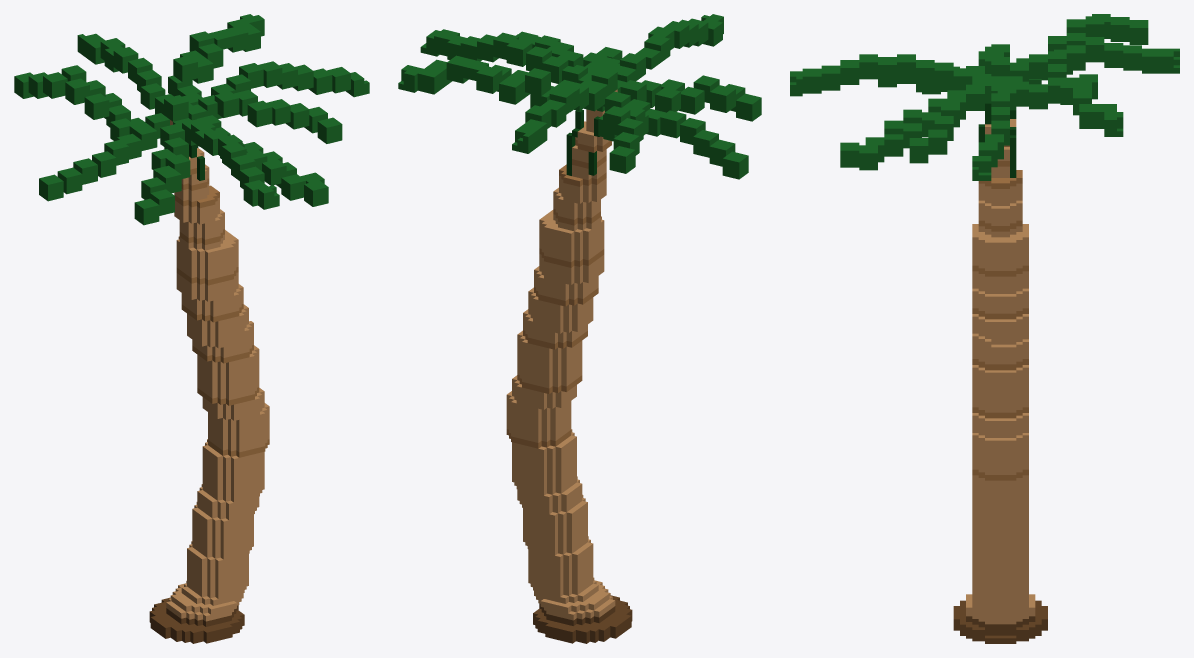
Rendered from 2_2 coco.obj.
3 renders of one model, left to right at view 1: azimuth 30°, elevation 25°; view 2: azimuth 150°, elevation 25°; view 3: azimuth 270°, elevation 25°, orthographic. The views are drawn at different scales.
Size of the model in its own units: 6 by 10 by 6.2.
Materials: 1 (1 with a texture image).
